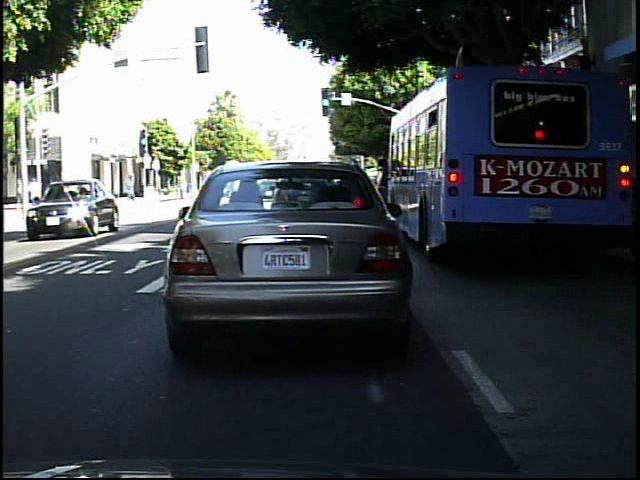person: (72, 174, 90, 213), (14, 174, 30, 217), (58, 174, 75, 214), (123, 171, 141, 205), (48, 178, 64, 215), (13, 177, 30, 210), (29, 174, 44, 209)
